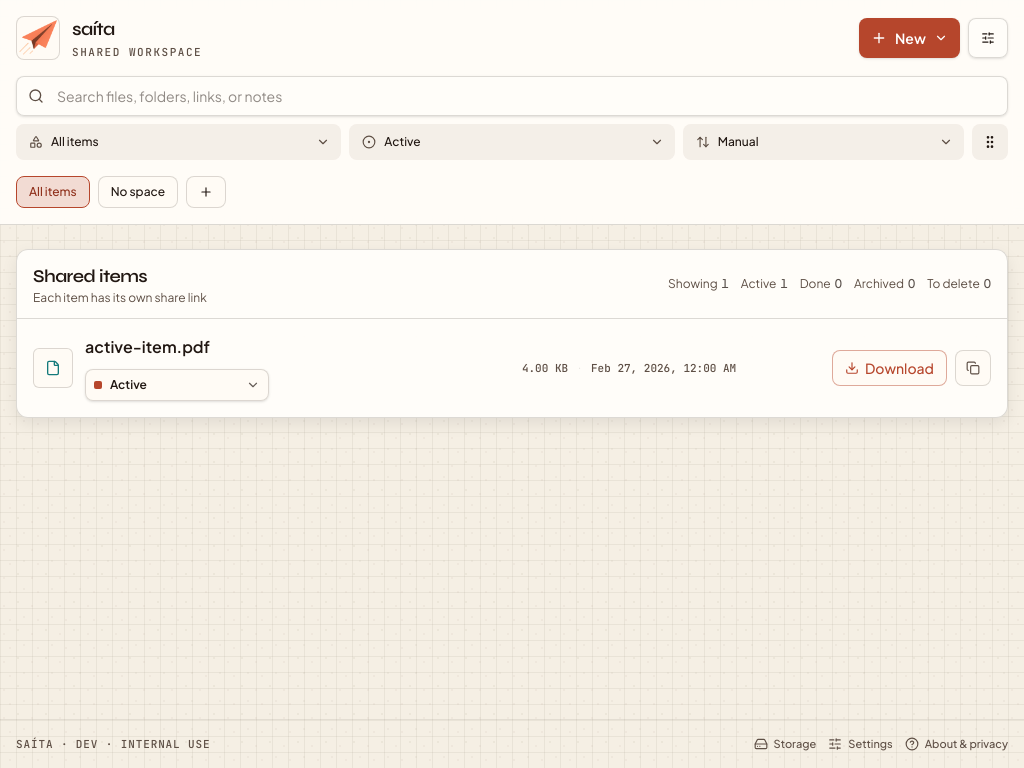
allows entering reorder mode when filtering by done state
expect the text "active-item.pdf" is shown: met, box x1=85 y1=336 x2=210 y2=357
Click the dropdown named "Filter by status" at (402, 142), box x1=349 y1=124 x2=675 y2=160
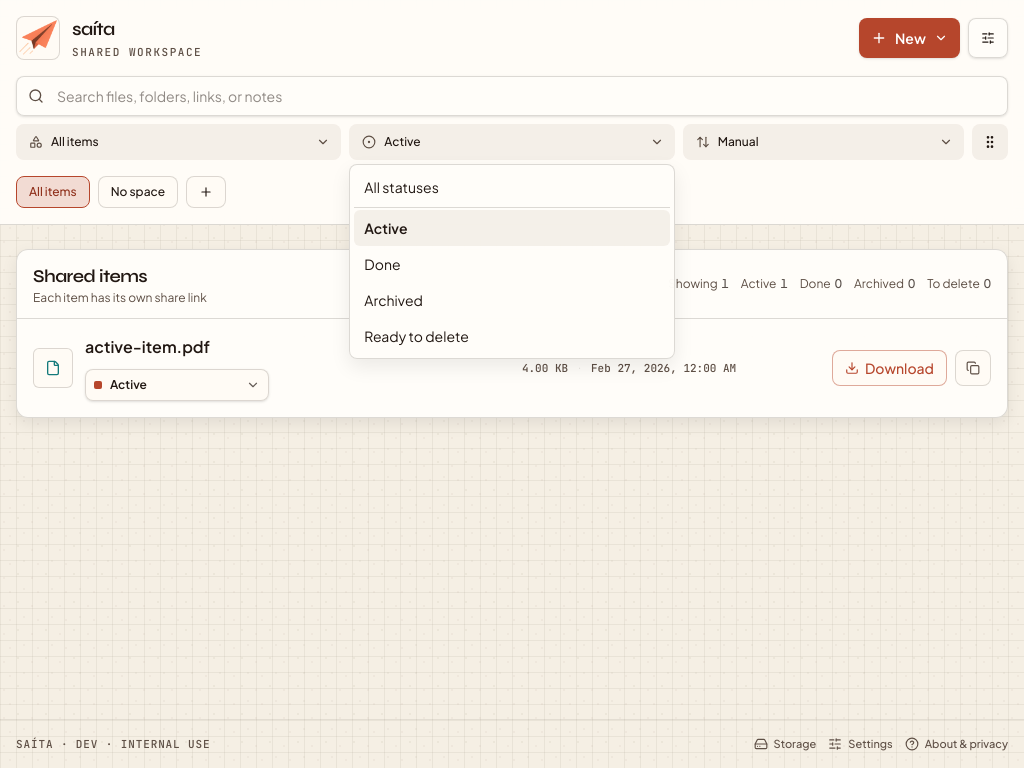
Click the option "Done" at (382, 264), box x1=354 y1=246 x2=670 y2=282
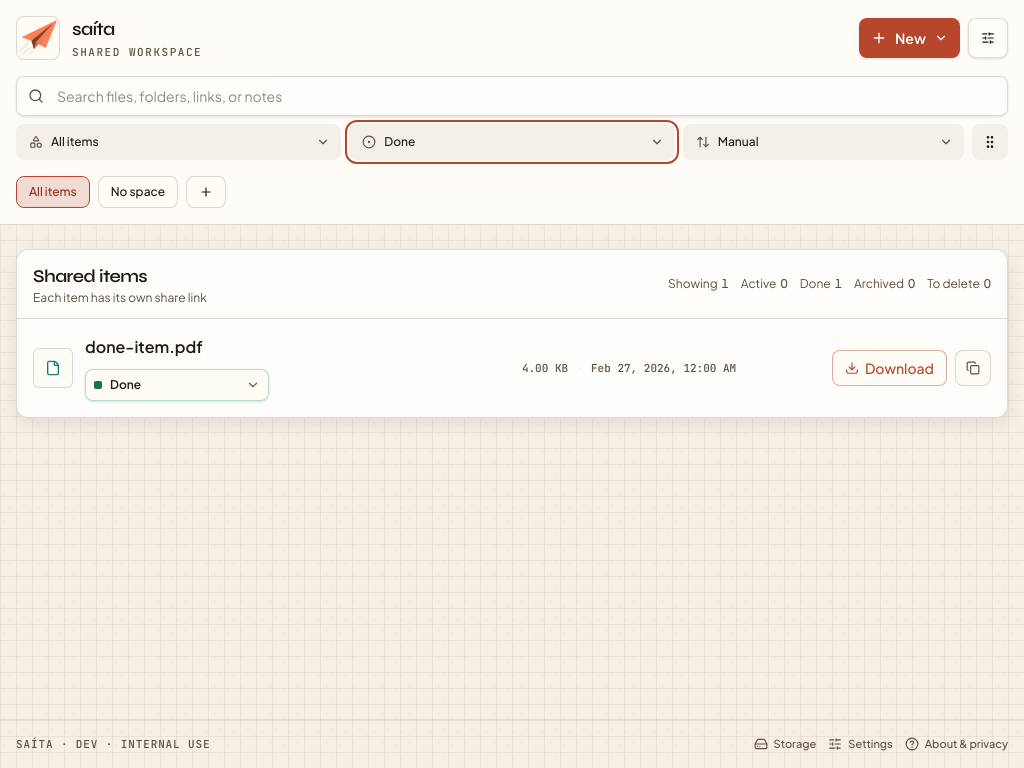
expect the button named "Enter reorder mode" is enabled: met, box x1=972 y1=124 x2=1008 y2=160
expect the text "done-item.pdf" is shown: met, box x1=85 y1=336 x2=203 y2=357
